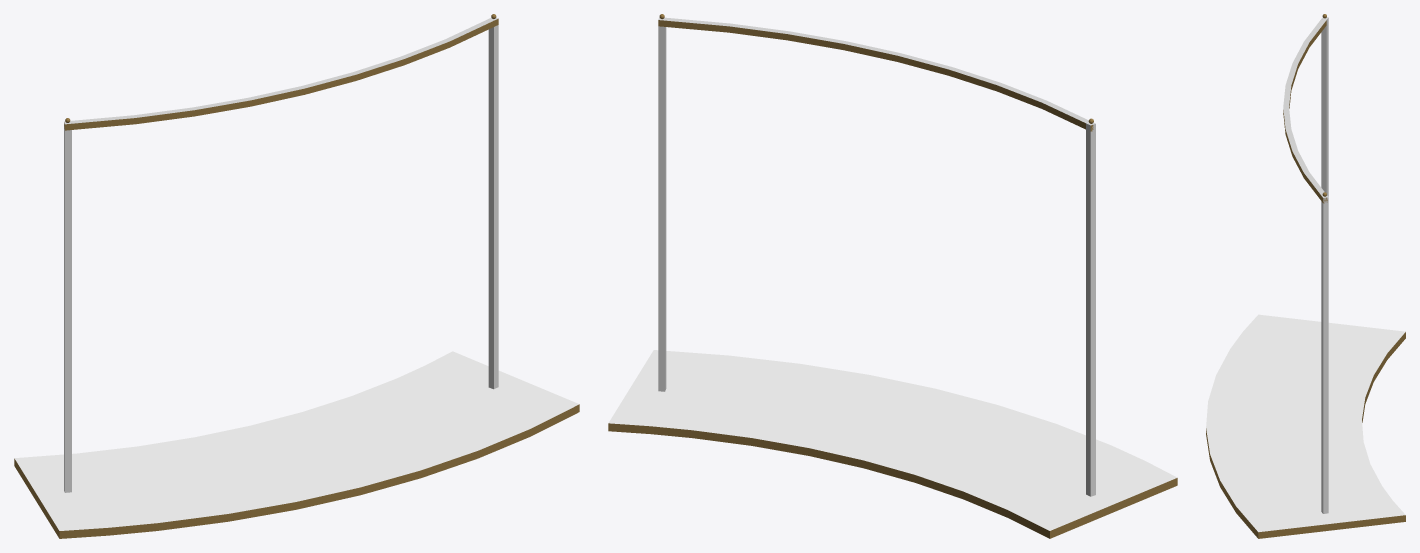
The model's file is uploads_files_1837964_meuble04.fbx.
The picture shows the model from 3 angles, left to right: view 1: azimuth 30°, elevation 25°; view 2: azimuth 150°, elevation 25°; view 3: azimuth 270°, elevation 25°; orthographic projection. The views are drawn at different scales.
Parts seen in each view (by area): view 1: Cap 2.4, Extrude NURBS, meuble 1.3.2, Extrude NURBS.1, meuble 1.4, Cap 2.3; view 2: Cap 2.4, Extrude NURBS, meuble 1.4, meuble 1.3.2, Extrude NURBS.1, Cap 2.3; view 3: Cap 2.4, meuble 1.3.2, Extrude NURBS, meuble 1.4, Cap 2.3, Extrude NURBS.1.
Boxes of the visible parts, x1=… form: Cap 2.4: x1=14, y1=351, x2=578, y2=530; Extrude NURBS: x1=14, y1=404, x2=579, y2=538; meuble 1.3.2: x1=488, y1=25, x2=498, y2=389; Extrude NURBS.1: x1=64, y1=18, x2=498, y2=130; meuble 1.4: x1=64, y1=123, x2=71, y2=492; Cap 2.3: x1=71, y1=19, x2=493, y2=123; Cap 2.4: x1=608, y1=350, x2=1177, y2=530; Extrude NURBS: x1=608, y1=423, x2=1177, y2=538; meuble 1.4: x1=1086, y1=123, x2=1095, y2=496; meuble 1.3.2: x1=658, y1=26, x2=666, y2=391; Extrude NURBS.1: x1=658, y1=20, x2=1093, y2=131; Cap 2.3: x1=665, y1=17, x2=1088, y2=122; Cap 2.4: x1=1206, y1=314, x2=1405, y2=532; meuble 1.3.2: x1=1321, y1=197, x2=1328, y2=513; Extrude NURBS: x1=1206, y1=332, x2=1405, y2=538; meuble 1.4: x1=1321, y1=18, x2=1328, y2=196; Cap 2.3: x1=1283, y1=19, x2=1326, y2=195; Extrude NURBS.1: x1=1283, y1=20, x2=1327, y2=203.
Bounding box in the file's own units: 174 × 121 × 67.32.
